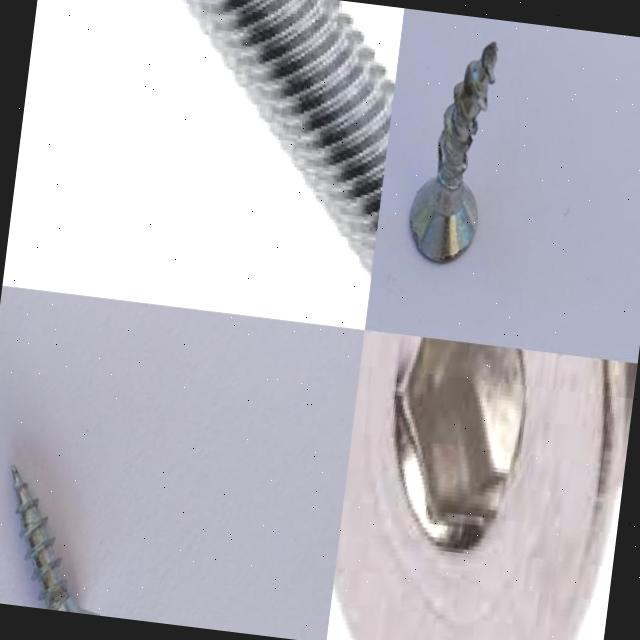Screw: (330, 330, 637, 640), (178, 0, 396, 286), (409, 40, 497, 261), (11, 463, 99, 615)
